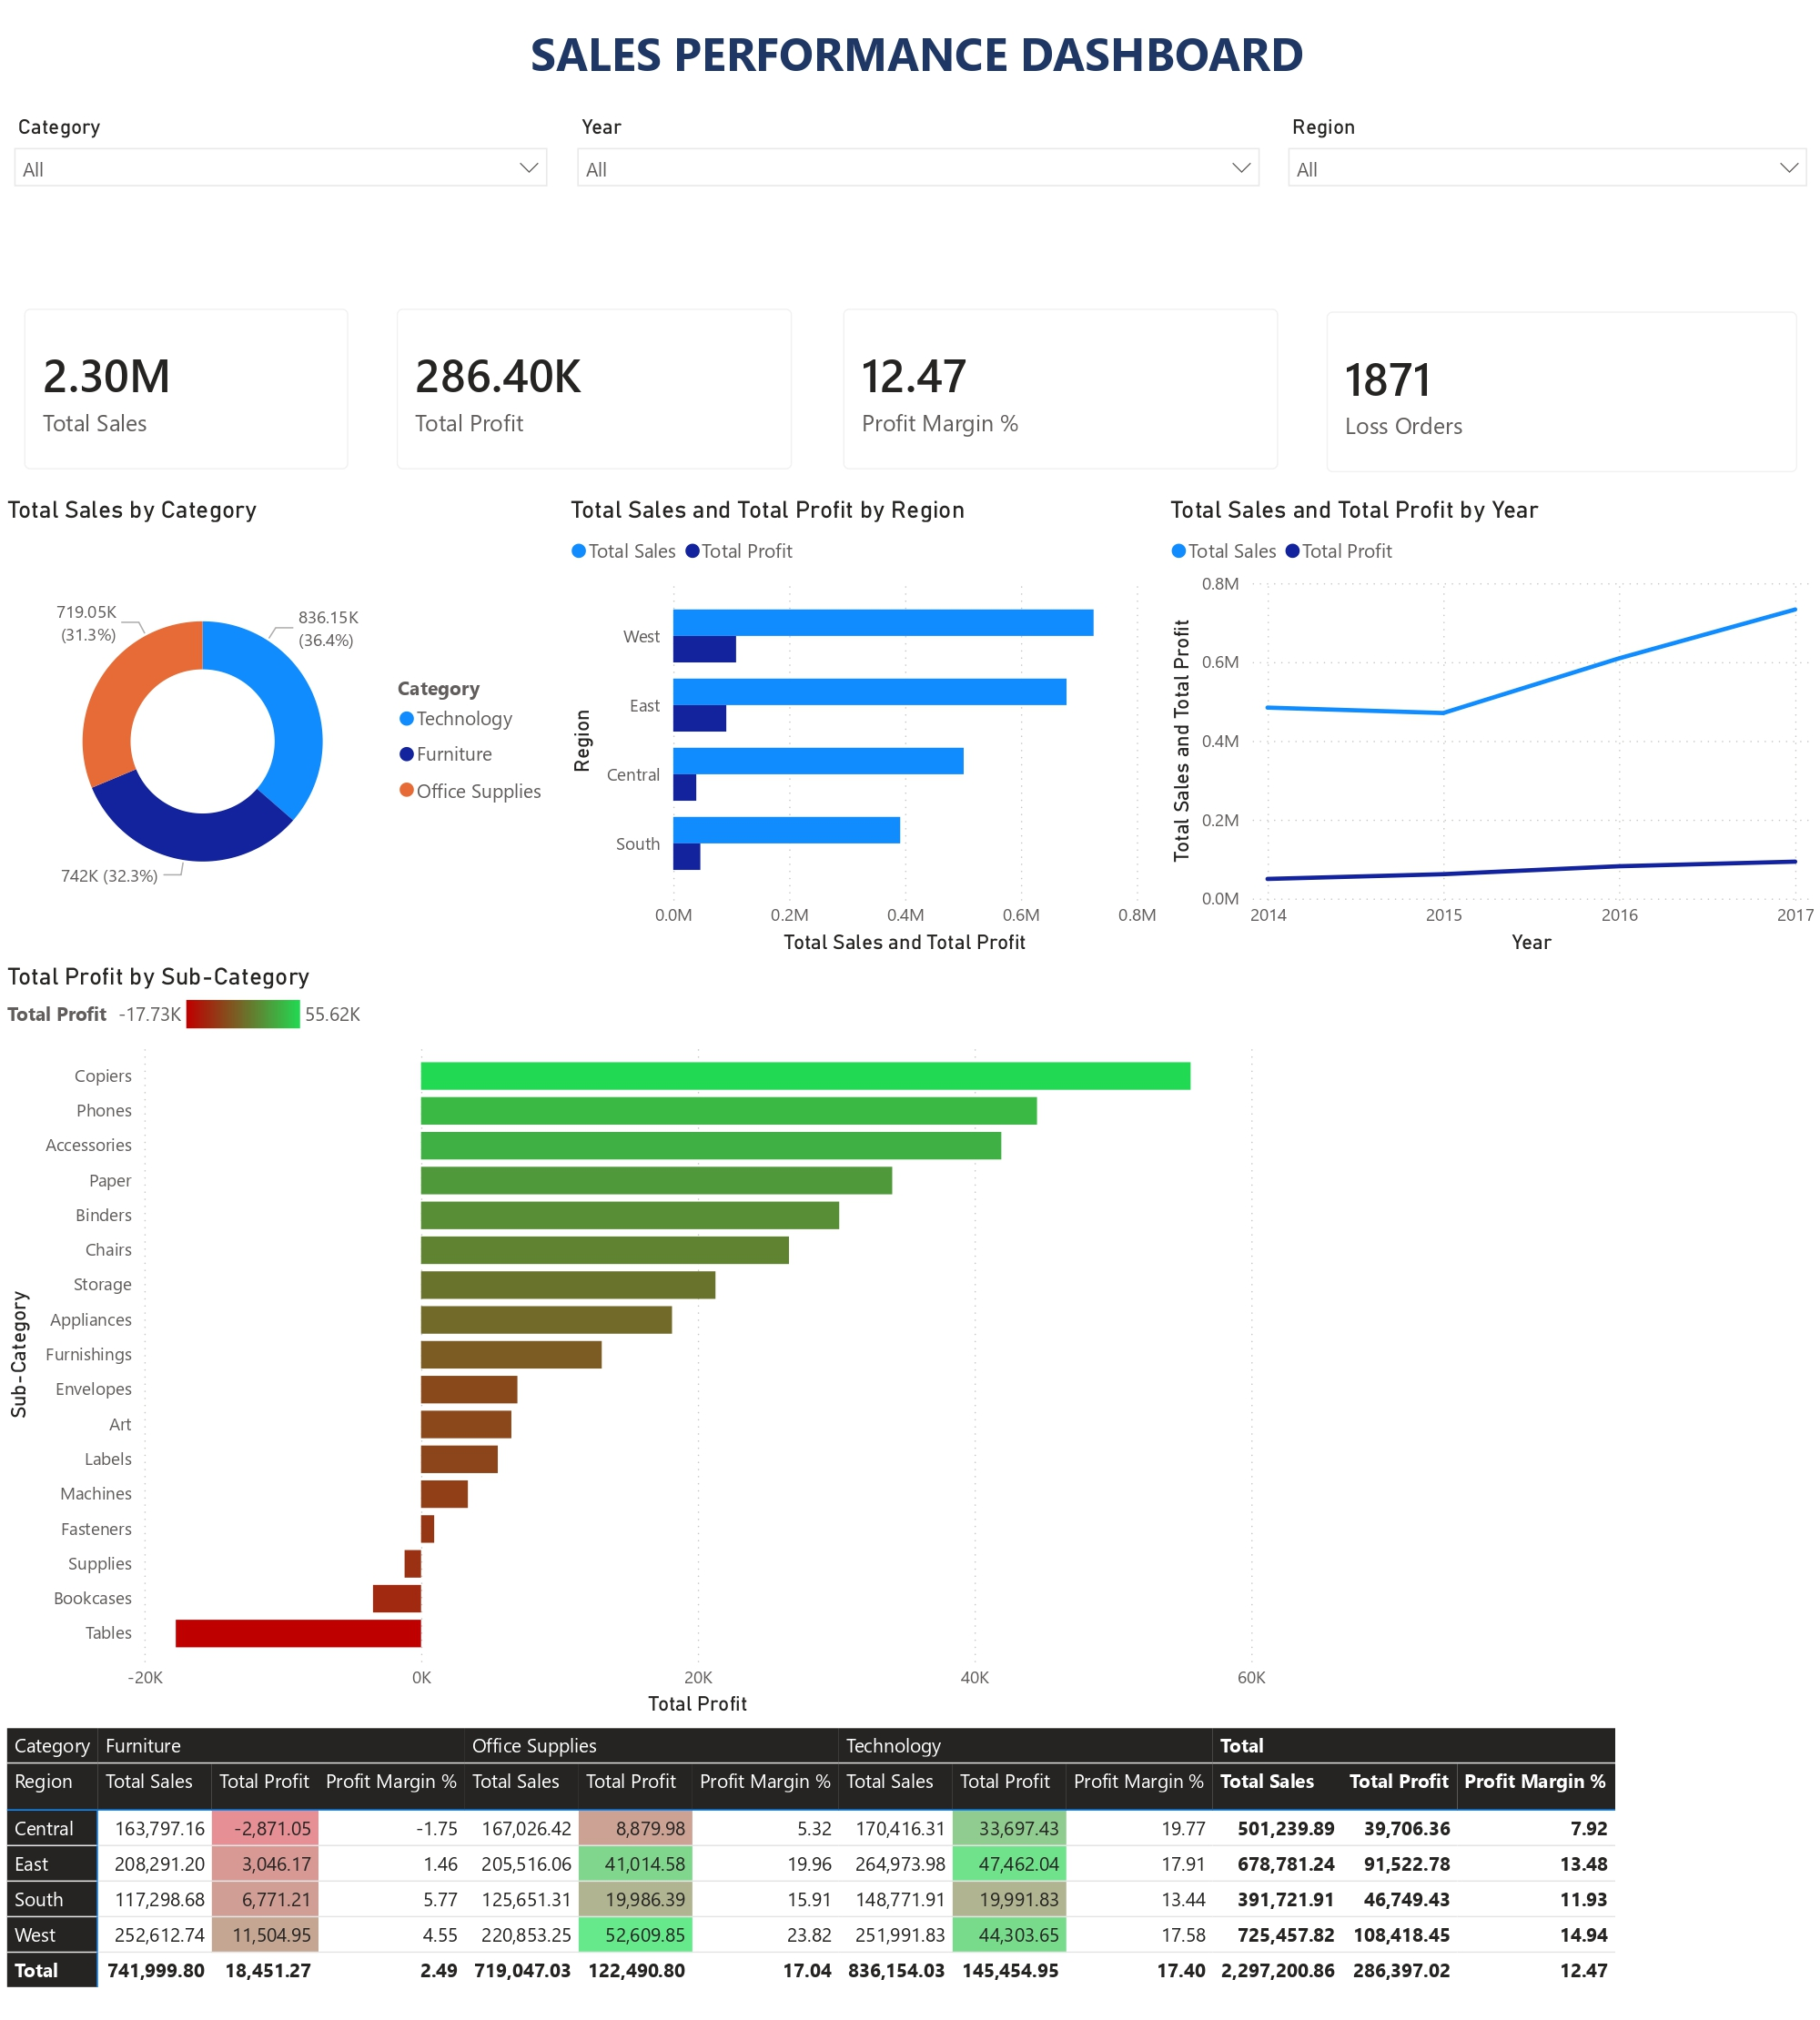

The page's visual inventory and layout, read from the dashboard file:
{"tool":"powerbi","page":{"name":"Page 1","canvas":[1280,1400],"ordinal":0},"visuals":[{"type":"textbox","box":[10,0,1270.1,73.4],"z":0},{"type":"cardVisual","fields":{"Data":["DateTable.Total Sales"]},"box":[0,190,262.5,147.5],"z":1000},{"type":"cardVisual","fields":{"Data":["DateTable.Total Profit"]},"box":[262.5,190,312.5,147.5],"z":2000},{"type":"cardVisual","fields":{"Data":["DateTable.Profit Margin %"]},"box":[575,190,340,147.5],"z":3000},{"type":"cardVisual","fields":{"Data":["DateTable.Loss Orders"]},"box":[915,192.5,365,147.5],"z":4000},{"type":"clusteredBarChart","fields":{"Category":["superstore_cleaned.Region"],"Y":["DateTable.Total Sales","DateTable.Total Profit"]},"box":[395,337.5,422.5,327.5],"z":5000},{"type":"donutChart","fields":{"Category":["superstore_cleaned.Category"],"Y":["DateTable.Total Sales"]},"box":[0,337.5,395,327.5],"z":6000},{"type":"lineChart","fields":{"Category":["superstore_cleaned.Order Date.Variation.Date Hierarchy.Year","superstore_cleaned.Order Date.Variation.Date Hierarchy.Quarter","superstore_cleaned.Order Date.Variation.Date Hierarchy.Month","superstore_cleaned.Order Date.Variation.Date Hierarchy.Day"],"Y":["DateTable.Total Sales","DateTable.Total Profit"]},"box":[817.5,337.5,462.5,327.5],"z":7000},{"type":"clusteredBarChart","fields":{"Category":["superstore_cleaned.Sub-Category"],"Y":["DateTable.Total Profit"]},"box":[0,665,895,535],"z":8000},{"type":"slicer","fields":{"Values":["superstore_cleaned.Year"]},"box":[395,65,500,125],"z":8001},{"type":"slicer","fields":{"Values":["superstore_cleaned.Region"]},"box":[895,65,385,125],"z":8002},{"type":"slicer","fields":{"Values":["superstore_cleaned.Category"]},"box":[0,65,395,125],"z":8003},{"type":"pivotTable","fields":{"Rows":["superstore_cleaned.Region"],"Columns":["superstore_cleaned.Category"],"Values":["DateTable.Total Sales","DateTable.Total Profit","DateTable.Profit Margin %"]},"box":[0,1200,1280,300],"z":8004}]}

Visuals, with their boxes in screenshot pixels (x1, y1, x2, y2), scaled from the page's 1280x1400 canvas onto the 1820x2020 screenshot:
textbox: [x1=15, y1=0, x2=1819, y2=106]
cardVisual - DateTable.Total Sales: [x1=0, y1=274, x2=373, y2=487]
cardVisual - DateTable.Total Profit: [x1=373, y1=274, x2=817, y2=487]
cardVisual - DateTable.Profit Margin %: [x1=817, y1=274, x2=1301, y2=487]
cardVisual - DateTable.Loss Orders: [x1=1301, y1=278, x2=1819, y2=490]
clusteredBarChart - superstore_cleaned.Region x DateTable.Total Sales: [x1=561, y1=487, x2=1162, y2=959]
donutChart - superstore_cleaned.Category x DateTable.Total Sales: [x1=0, y1=487, x2=561, y2=959]
lineChart - superstore_cleaned.Order Date.Variation.Date Hierarchy.Year x superstore_cleaned.Order Date.Variation.Date Hierarchy.Quarter: [x1=1162, y1=487, x2=1819, y2=959]
clusteredBarChart - superstore_cleaned.Sub-Category x DateTable.Total Profit: [x1=0, y1=959, x2=1272, y2=1732]
slicer - superstore_cleaned.Year: [x1=561, y1=94, x2=1272, y2=274]
slicer - superstore_cleaned.Region: [x1=1272, y1=94, x2=1819, y2=274]
slicer - superstore_cleaned.Category: [x1=0, y1=94, x2=561, y2=274]
pivotTable - superstore_cleaned.Region x superstore_cleaned.Category: [x1=0, y1=1732, x2=1819, y2=2019]
